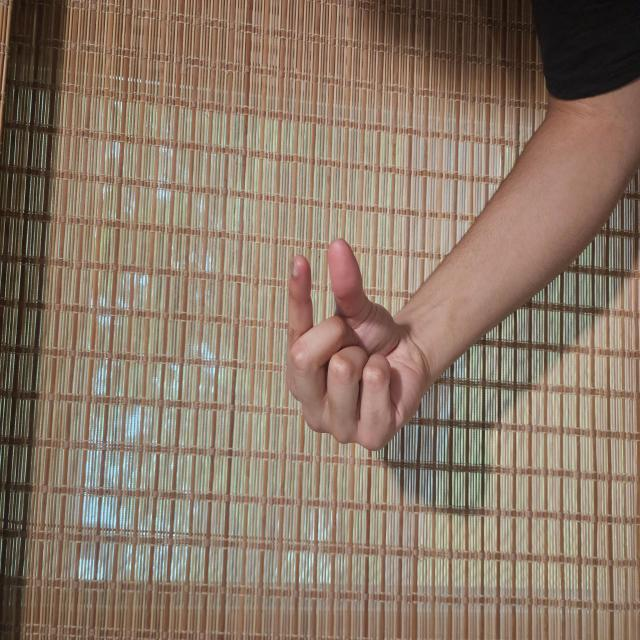G: (88, 291, 371, 640)
